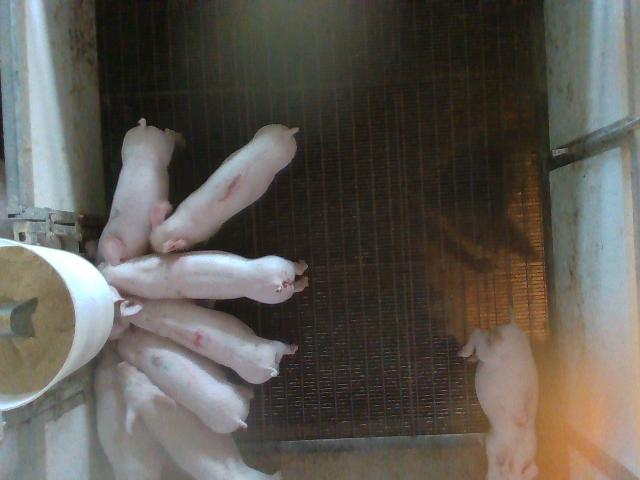pig-1: (150, 124, 299, 252)
pig-3: (460, 320, 539, 478)
pig-4: (129, 299, 298, 383)
